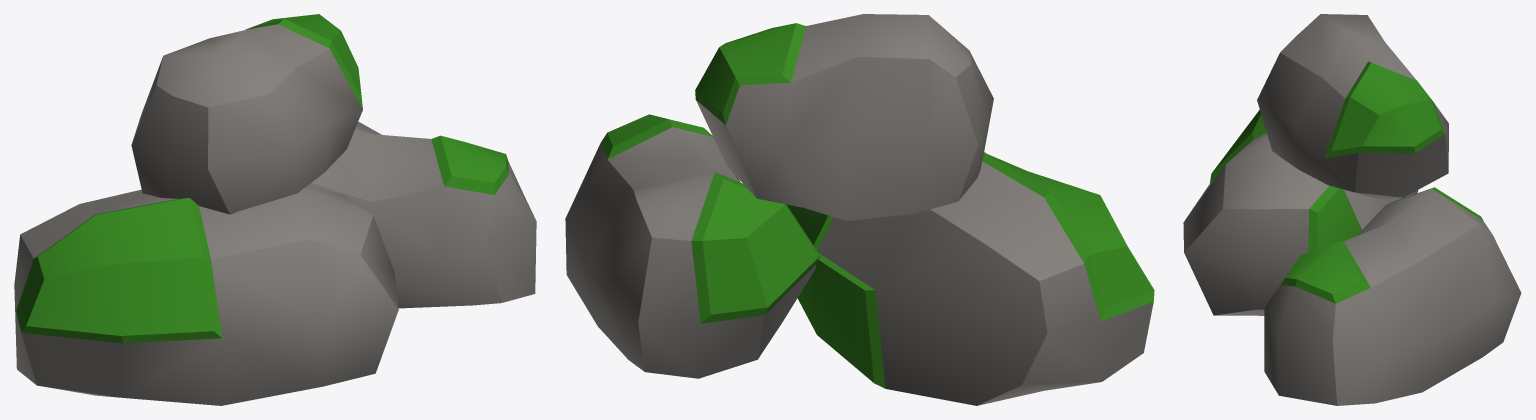
Rendered from Stone_04.fbx.
3 renders of one model, left to right at view 1: azimuth 30°, elevation 25°; view 2: azimuth 150°, elevation 25°; view 3: azimuth 270°, elevation 25°, orthographic. The views are drawn at different scales.
Visible parts, largest first — view 1: Stone_004; view 2: Stone_004; view 3: Stone_004.
Part boxes in pixels (box(x1,y1,x2,y2)): Stone_004: box(14, 14, 536, 405); Stone_004: box(565, 14, 1154, 405); Stone_004: box(1183, 14, 1521, 405).
Size of the model in its own units: 164 by 95.87 by 105.
1 material, 1 textured.
